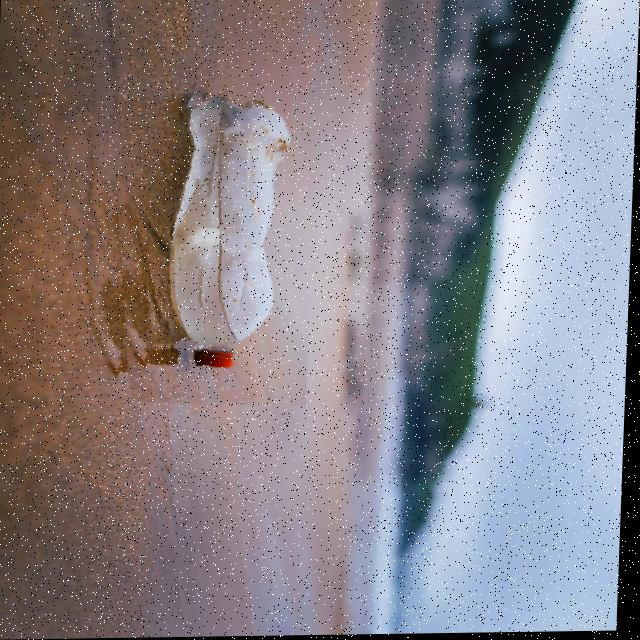litter: (101, 92, 317, 412), (144, 345, 222, 385)
